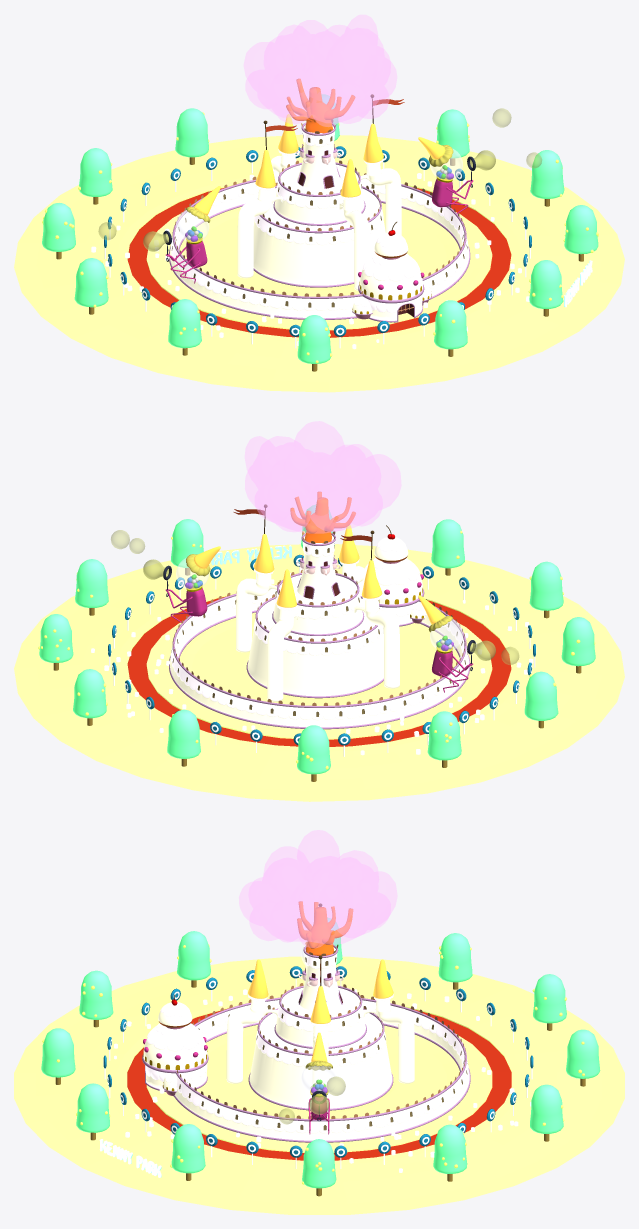
The picture shows the model from 3 angles, top to bottom: view 1: azimuth 30°, elevation 25°; view 2: azimuth 150°, elevation 25°; view 3: azimuth 270°, elevation 25°; orthographic projection.
Visible parts, largest first — view 1: Floor_10, Tree_5, Walls_Main_6, Walls_Center_Bottom_9, Front_Gate_20, Walls_Center_Middle_12, Big_Tree_Leaves_7, Lollipop_3, Gumball_Guardian_Left_22, Tower_2_17, Gumball_Guardian_Right_21, Sphere003_27 (+19 smaller); view 2: Floor_10, Tree_5, Walls_Main_6, Walls_Center_Bottom_9, Big_Tree_Leaves_7, Front_Gate_20, Walls_Center_Middle_12, Lollipop_3, Gumball_Guardian_Left_22, Tower_2_17, Gumball_Guardian_Right_21, Tower_1_14 (+19 smaller); view 3: Floor_10, Tree_5, Walls_Main_6, Walls_Center_Bottom_9, Front_Gate_20, Walls_Center_Middle_12, Lollipop_3, Tower_4_19, Tower_3_18, Sphere019_43, Sphere003_27, Big_Tree_Leaves_7 (+18 smaller).
Part boxes in pixels (x1,y1,x2,y2): Floor_10: [14, 134, 624, 392]; Tree_5: [42, 94, 598, 371]; Walls_Main_6: [169, 173, 470, 319]; Walls_Center_Bottom_9: [253, 182, 385, 287]; Front_Gate_20: [352, 222, 431, 322]; Walls_Center_Middle_12: [273, 160, 365, 225]; Big_Tree_Leaves_7: [257, 52, 378, 122]; Lollipop_3: [103, 146, 531, 348]; Gumball_Guardian_Left_22: [143, 186, 220, 283]; Tower_2_17: [237, 120, 297, 278]; Gumball_Guardian_Right_21: [418, 137, 495, 213]; Sphere003_27: [324, 35, 377, 92]; Floor_10: [14, 544, 624, 801]; Tree_5: [39, 505, 595, 781]; Walls_Main_6: [169, 582, 470, 729]; Walls_Center_Bottom_9: [246, 594, 383, 698]; Big_Tree_Leaves_7: [260, 466, 378, 533]; Front_Gate_20: [364, 525, 424, 626]; Walls_Center_Middle_12: [272, 569, 363, 635]; Lollipop_3: [108, 554, 536, 756]; Gumball_Guardian_Left_22: [418, 595, 495, 692]; Tower_2_17: [340, 530, 399, 688]; Gumball_Guardian_Right_21: [143, 546, 220, 622]; Tower_1_14: [233, 504, 276, 652]; Floor_10: [14, 956, 624, 1214]; Tree_5: [41, 918, 600, 1196]; Walls_Main_6: [173, 994, 470, 1142]; Walls_Center_Bottom_9: [248, 1006, 393, 1110]; Front_Gate_20: [142, 994, 208, 1096]; Walls_Center_Middle_12: [274, 983, 366, 1048]; Lollipop_3: [103, 966, 533, 1168]; Tower_4_19: [363, 959, 414, 1083]; Tower_3_18: [226, 959, 277, 1083]; Sphere019_43: [289, 877, 343, 932]; Sphere003_27: [260, 858, 312, 913]; Big_Tree_Leaves_7: [261, 874, 379, 944].
Size of the model in its own units: 2.71 by 1.16 by 2.71.
